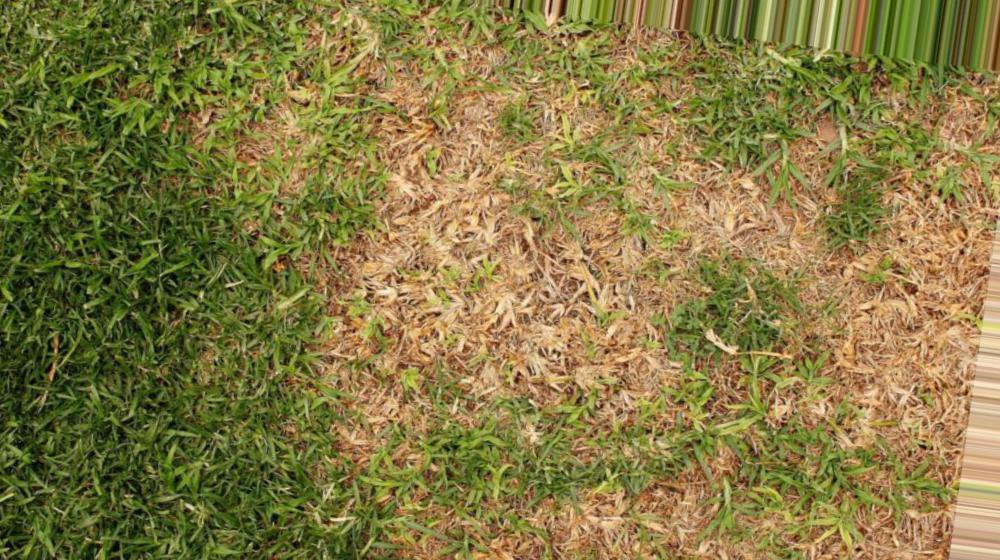patch: (459, 148, 650, 423), (777, 185, 962, 432)
